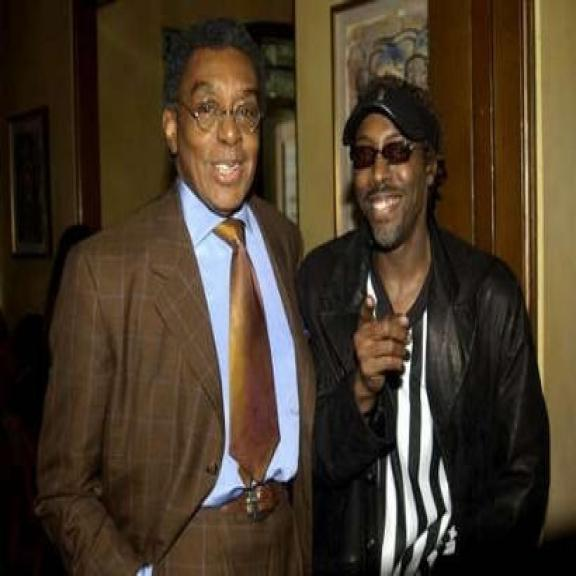face: (161, 21, 267, 212), (344, 92, 441, 251)
